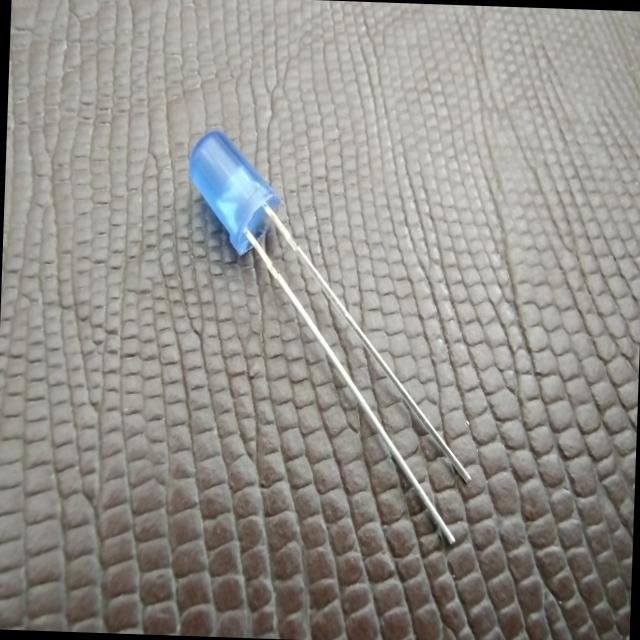blue_led: (185, 126, 282, 258)
